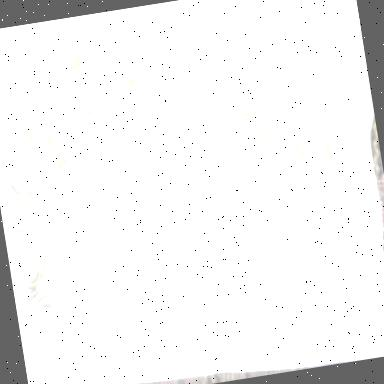pbw: (54, 204, 72, 230), (56, 91, 78, 112), (3, 174, 22, 198), (31, 144, 50, 166), (124, 146, 140, 172), (39, 119, 57, 142), (84, 122, 100, 147), (57, 176, 73, 201), (23, 286, 45, 304), (27, 268, 49, 286), (144, 274, 162, 296), (168, 290, 184, 314), (267, 254, 281, 281), (71, 264, 88, 286), (198, 267, 220, 284), (14, 166, 29, 190), (146, 188, 162, 210), (34, 244, 50, 266), (284, 289, 306, 305), (240, 107, 258, 126), (162, 200, 179, 220), (116, 160, 130, 184), (80, 260, 94, 284), (116, 59, 132, 80), (28, 322, 49, 338), (143, 74, 158, 96), (131, 248, 146, 270), (64, 58, 82, 76), (36, 298, 54, 316), (69, 46, 87, 64), (118, 120, 132, 143), (106, 66, 122, 86), (10, 221, 30, 237), (276, 262, 292, 282), (12, 193, 25, 217), (48, 152, 62, 174), (234, 274, 248, 296), (99, 142, 113, 164), (134, 81, 148, 103), (119, 72, 136, 90), (147, 122, 165, 139), (120, 313, 139, 329), (154, 294, 173, 310), (119, 306, 138, 322), (149, 299, 168, 315), (24, 119, 37, 142), (150, 70, 168, 86), (258, 178, 274, 196), (162, 214, 180, 230), (0, 195, 16, 213), (140, 155, 152, 179), (94, 176, 112, 192), (20, 190, 36, 208), (128, 60, 140, 84), (14, 292, 26, 316), (132, 68, 148, 86), (46, 288, 60, 308), (290, 146, 304, 166), (76, 95, 90, 115), (258, 128, 272, 148), (229, 265, 241, 288), (184, 86, 201, 102), (129, 97, 146, 113), (21, 304, 36, 322), (84, 102, 103, 116), (44, 135, 56, 157), (286, 156, 298, 178), (209, 146, 222, 166), (58, 148, 74, 164), (294, 142, 308, 160), (268, 241, 282, 259), (102, 281, 120, 295), (22, 278, 40, 292), (55, 150, 67, 171), (80, 160, 94, 178), (34, 289, 50, 304), (110, 272, 125, 288), (199, 107, 215, 122), (226, 225, 238, 245), (320, 142, 332, 162), (239, 140, 251, 160), (196, 113, 213, 127), (183, 250, 196, 268), (231, 286, 244, 304), (164, 186, 178, 202), (217, 240, 233, 254), (174, 250, 186, 268), (144, 142, 159, 156), (171, 244, 188, 256), (64, 159, 76, 175), (278, 254, 288, 270), (199, 119, 208, 136)
